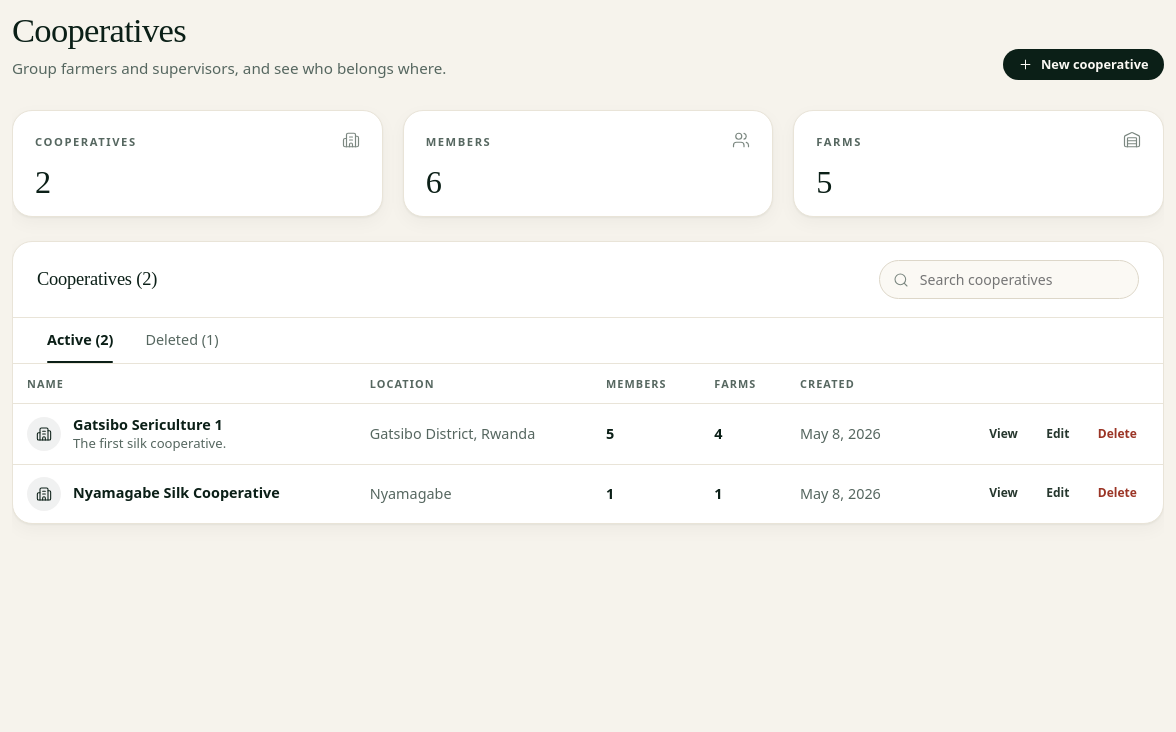
Test: Cooperatives page › filters by name or place and says when nothing matches
Check: the text "Gatsibo Sericulture 1" is shown, box [73,416,226,435]
Type "nyama" into the search field labelled "Search cooperatives" at [1009, 280], box [879,260,1139,299]
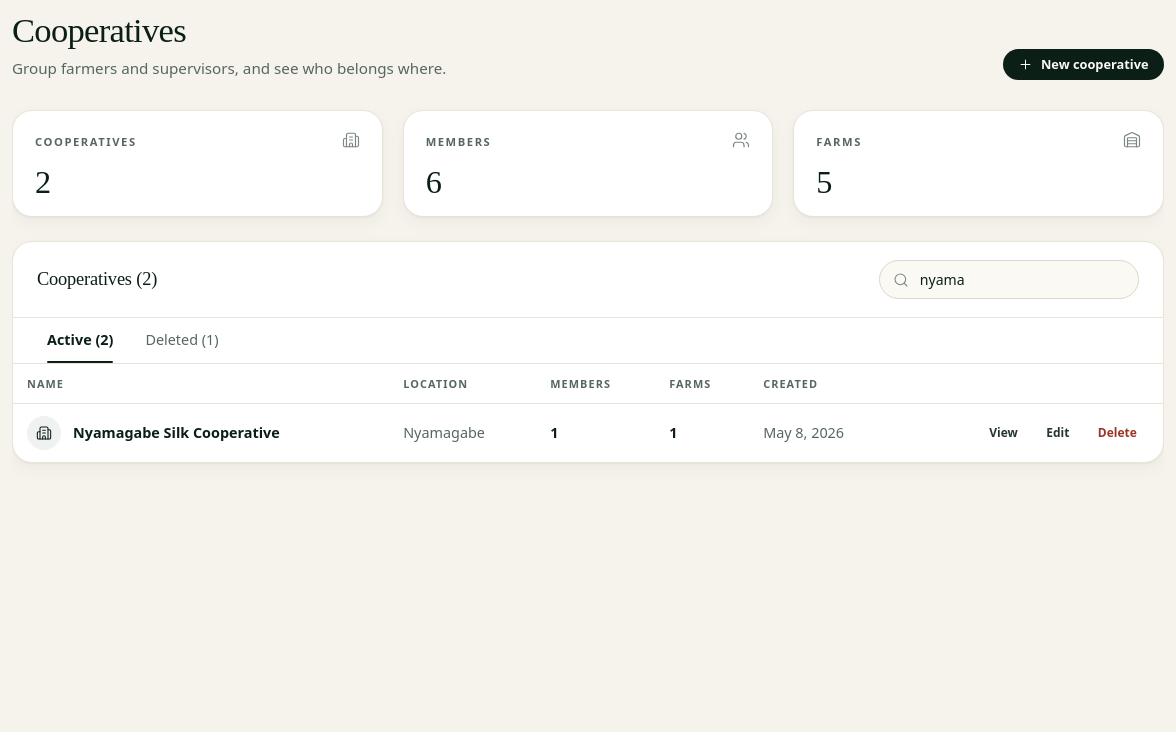
Check: the text "Gatsibo Sericulture 1" is gone
Replace the text in the search field named "Search cooperatives" with "zzz" at [1009, 280], box [879,260,1139,299]
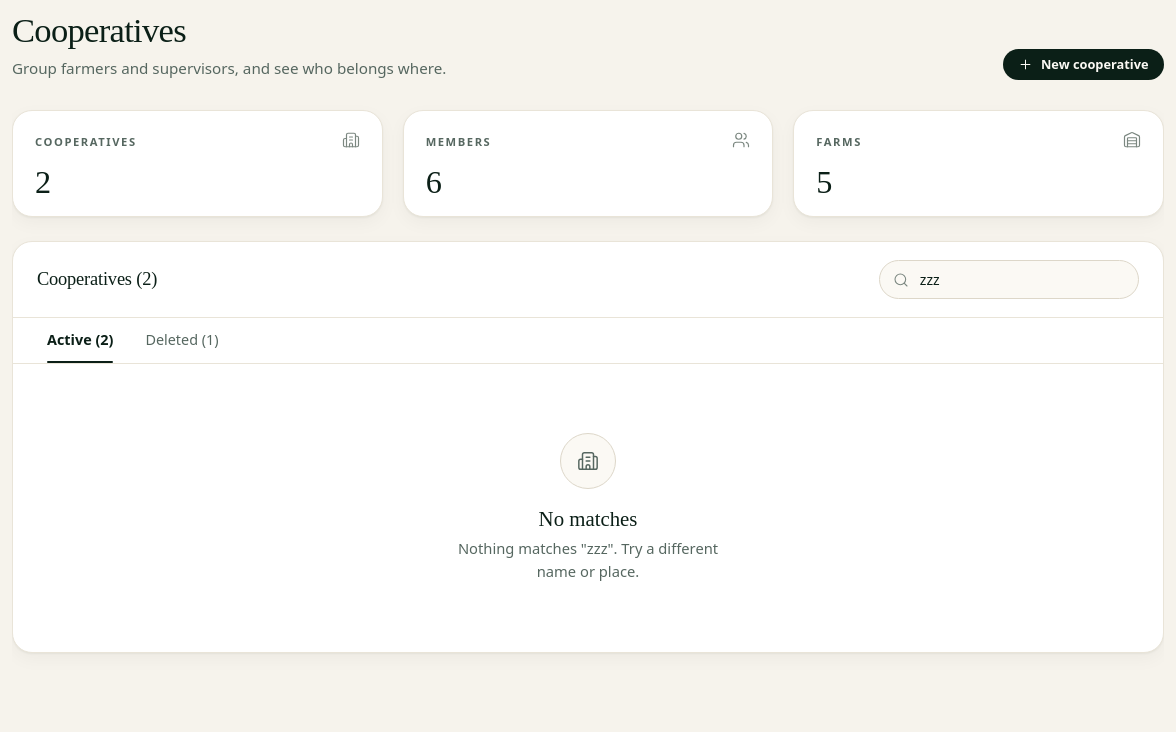
Check: the text "Nothing matches \"zzz\". Try a different name or place." is shown, box [436,537,740,583]
